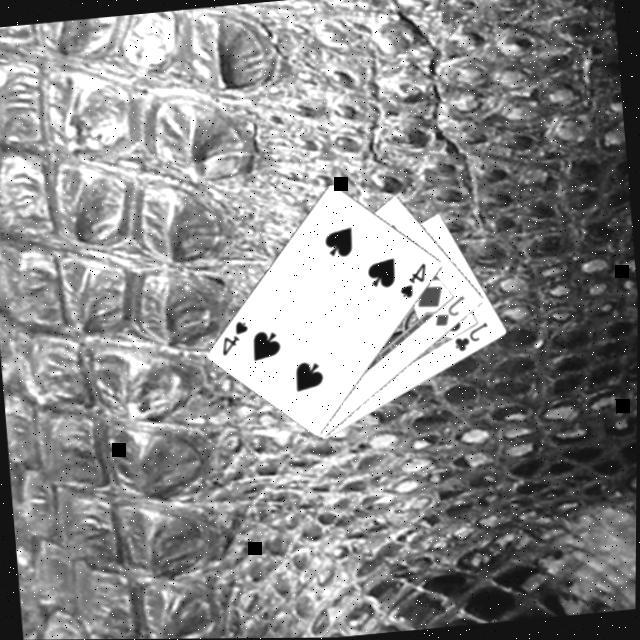4S: (393, 258, 429, 301), (215, 317, 252, 358)
JC: (448, 318, 491, 355)
JD: (428, 290, 469, 329)
